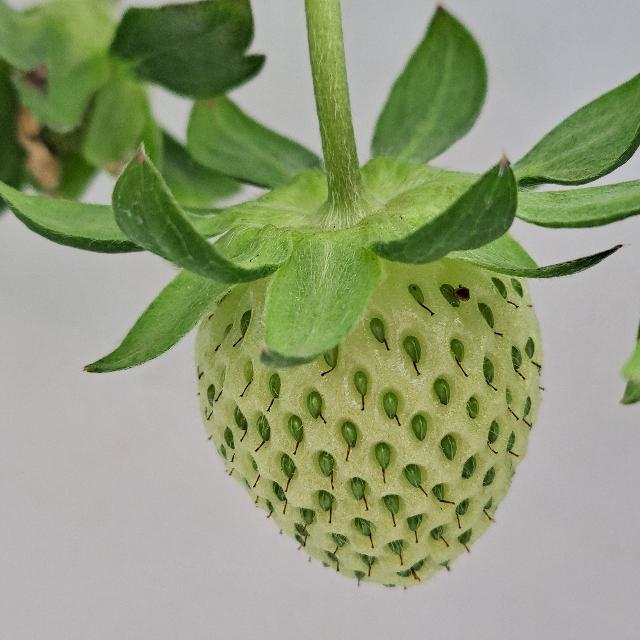Health_25: (194, 257, 544, 587)
